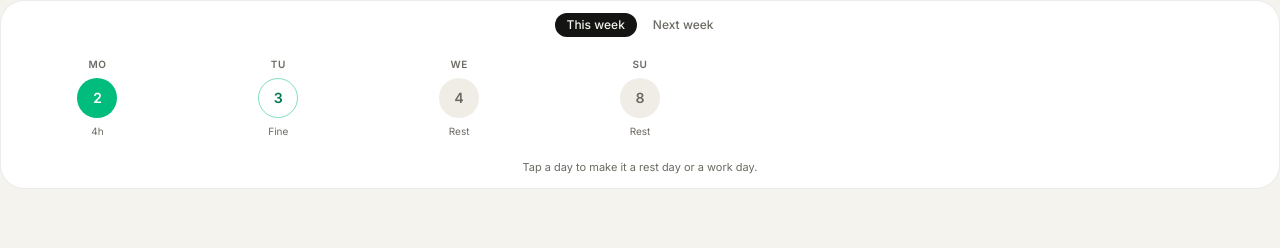
Test: WeekStrip › turns a rest day into a work day, and undoes a marked one
Later steps or results of the test are not shown.
Click the button "Su 8 Rest": (640,98) x1=556 y1=45 x2=724 y2=151
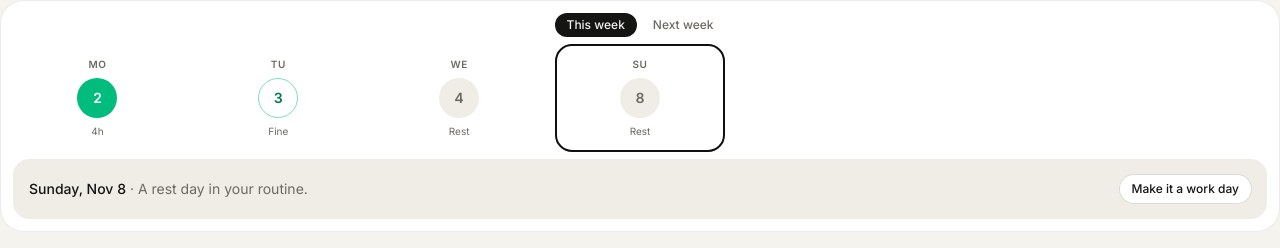
Now the button "Make it a work day" is shown, box x1=1120 y1=175 x2=1251 y2=203
